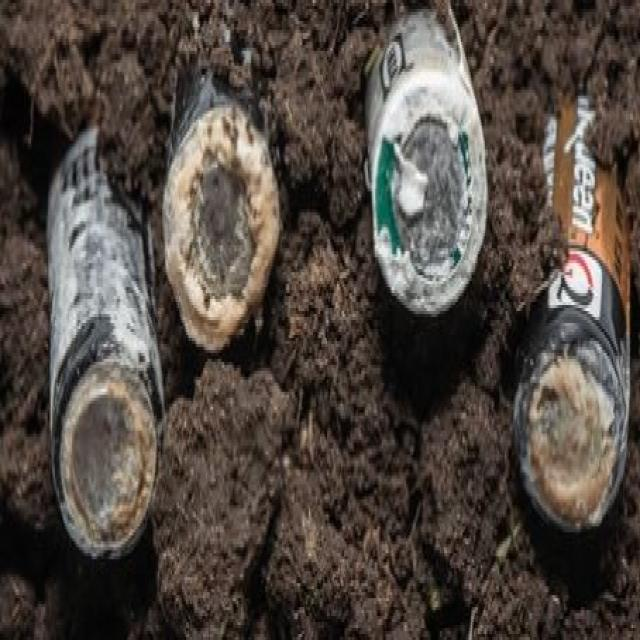electronic: (29, 126, 172, 610)
